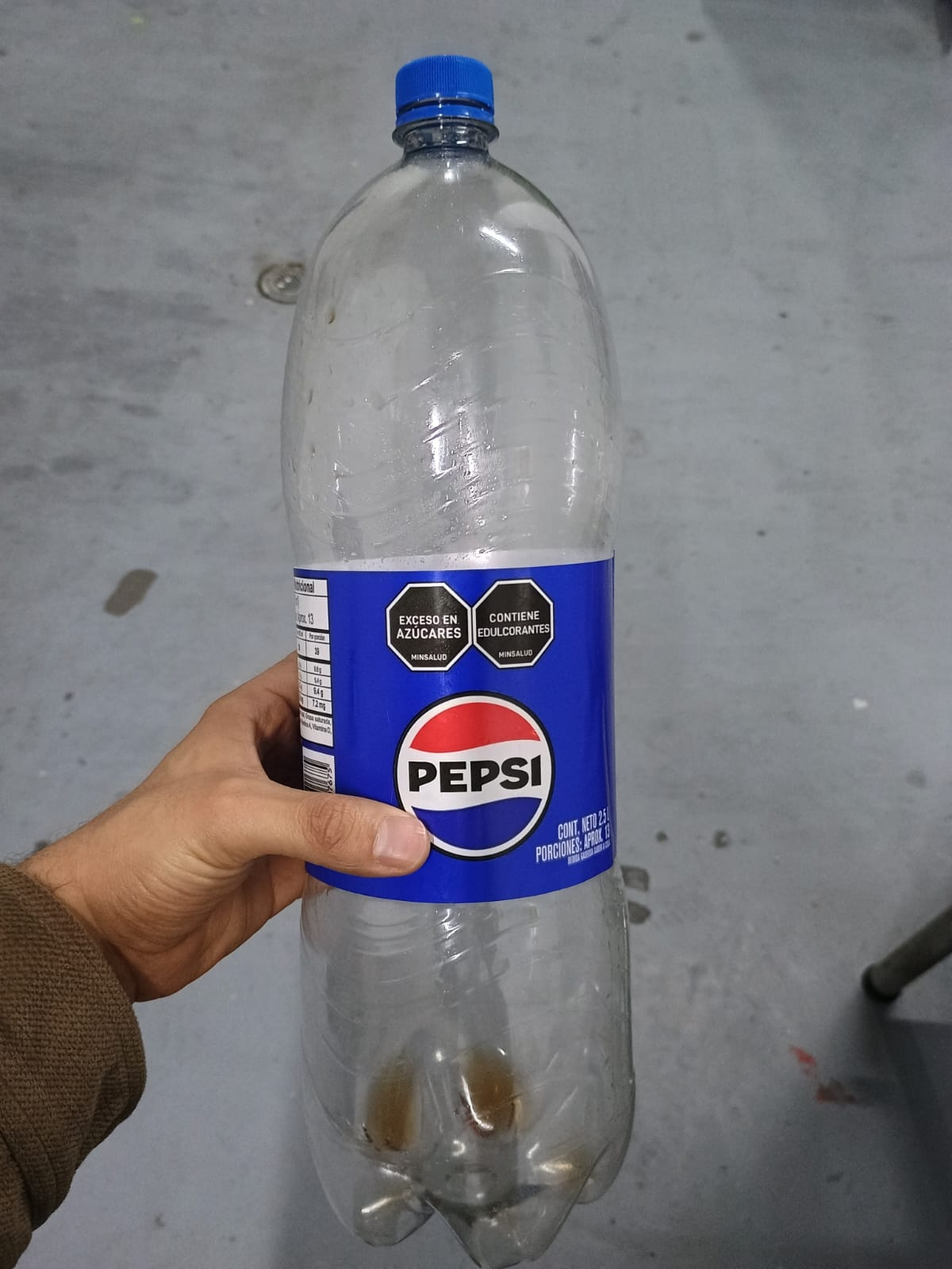Plastico: (278, 53, 634, 1269)
